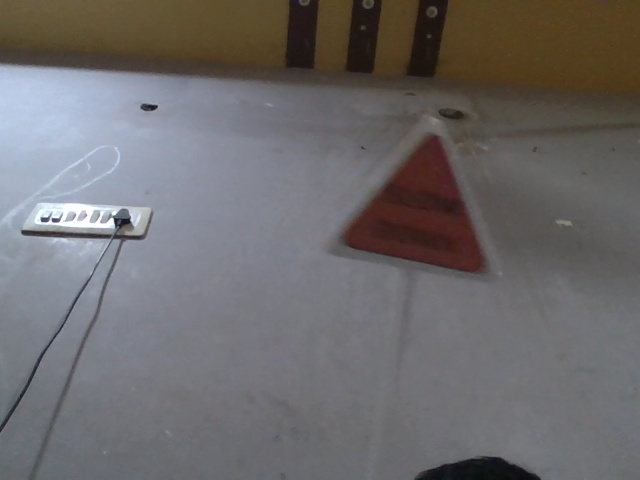slowdown: (329, 107, 497, 283)
